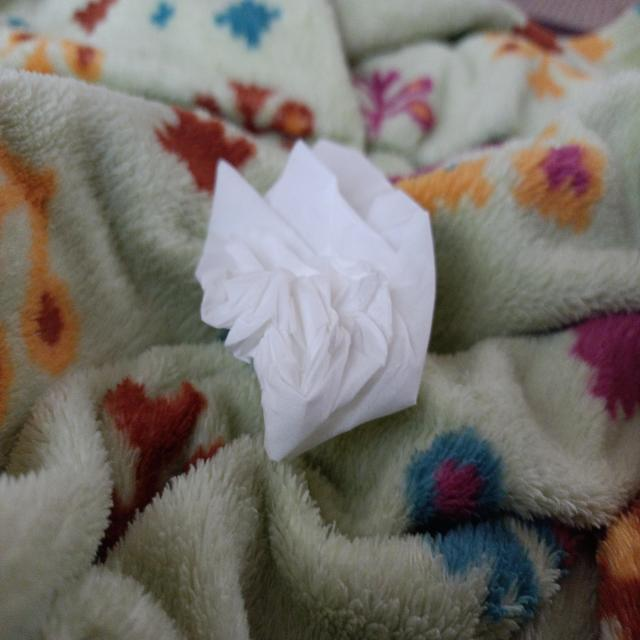Paper: (198, 118, 444, 457)
